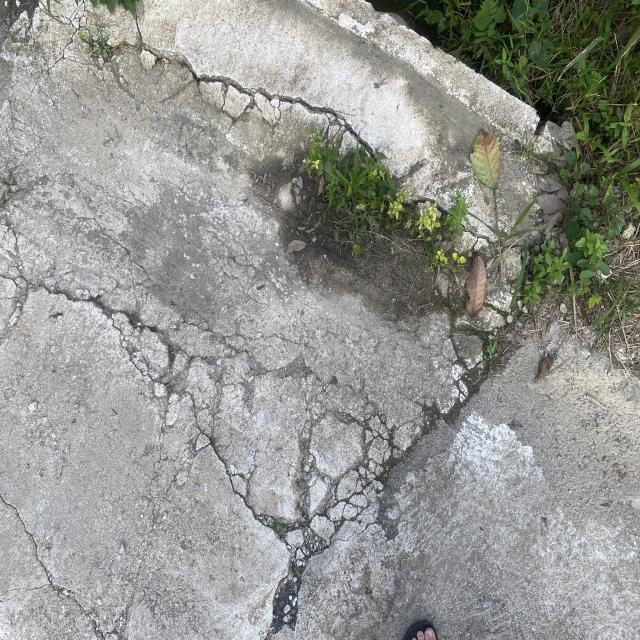Pothole: (26, 305, 376, 544), (100, 14, 328, 160)
